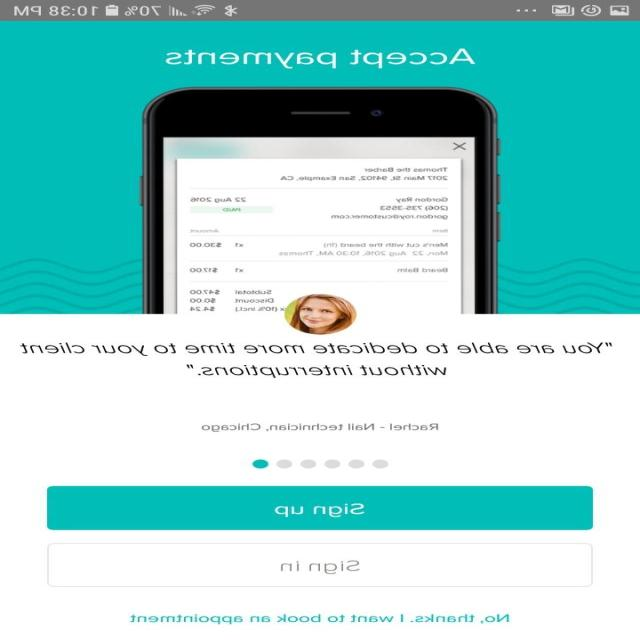Image: (140, 86, 502, 314), (284, 293, 358, 335)
Text: (21, 341, 614, 378), (166, 48, 477, 69), (130, 613, 510, 624), (202, 422, 439, 432)
TextButton: (48, 542, 594, 587), (47, 486, 593, 530)
